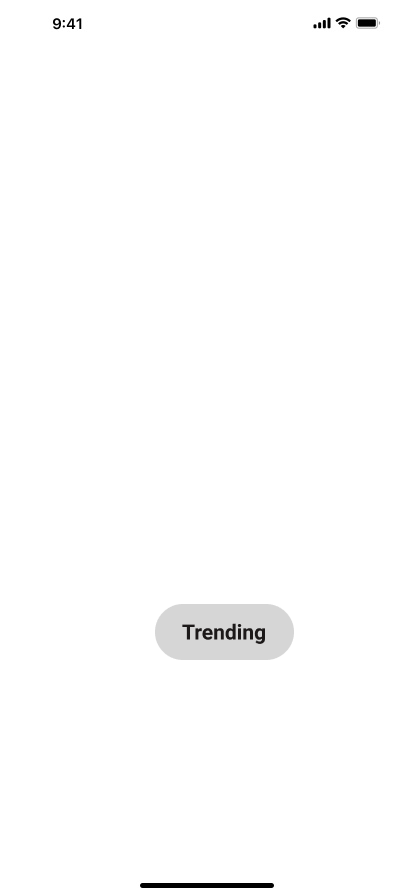Buttons: (155, 604, 302, 660)
Home Indicator: (0, 862, 414, 896)
Status Bar: (0, 0, 414, 44)
